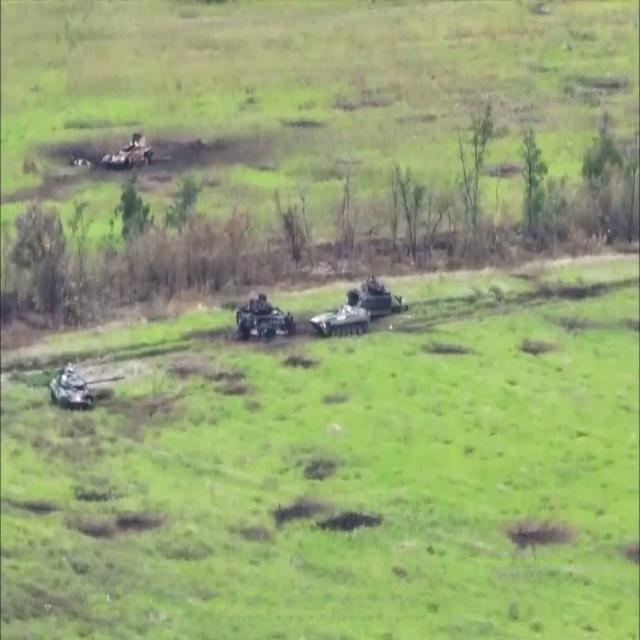AIFV: (237, 294, 296, 350), (348, 276, 403, 319), (310, 304, 372, 341)
MBT: (50, 367, 127, 414), (100, 133, 156, 173)
